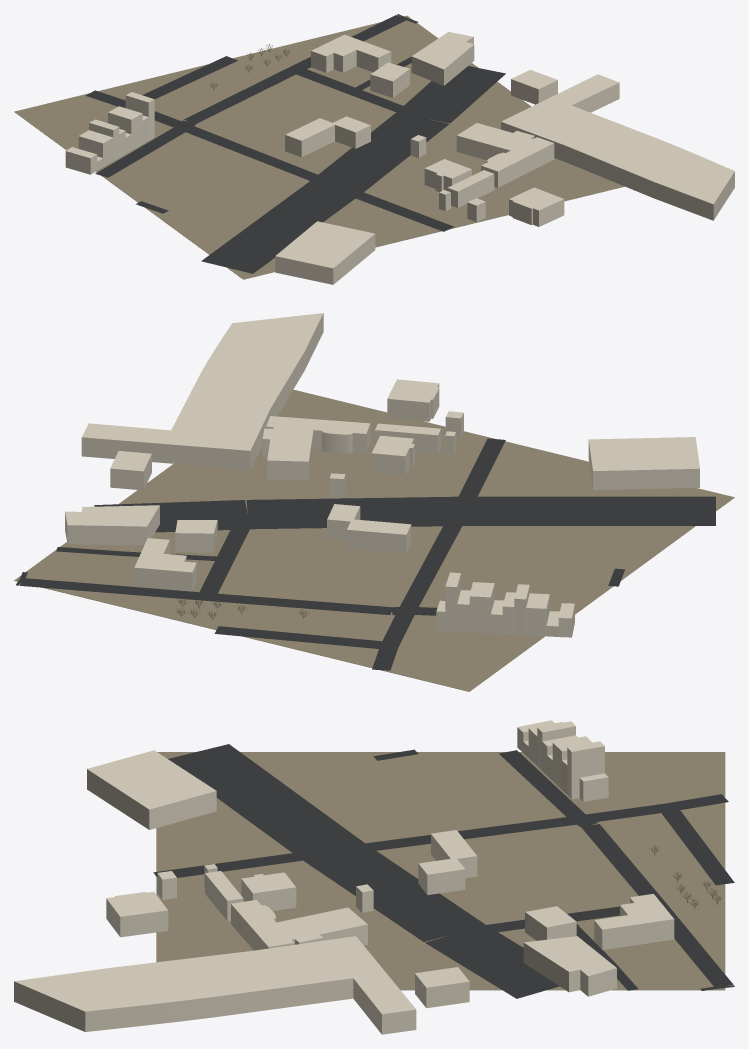
File: street_ba_cu.mid.glb
3 views of the same model, one above another, from view 1: azimuth 30°, elevation 25°; view 2: azimuth 150°, elevation 25°; view 3: azimuth 270°, elevation 25° (orthographic). The views are drawn at different scales.
Parts seen in each view (by area): view 1: street_ba_cu; view 2: street_ba_cu; view 3: street_ba_cu.
Boxes of the visible parts, left/top/right/bottom form: street_ba_cu: left=14, top=14, right=734, bottom=284; street_ba_cu: left=14, top=313, right=734, bottom=691; street_ba_cu: left=14, top=720, right=734, bottom=1034.
Bounding box in the file's own units: 243 × 18.5 × 252.
